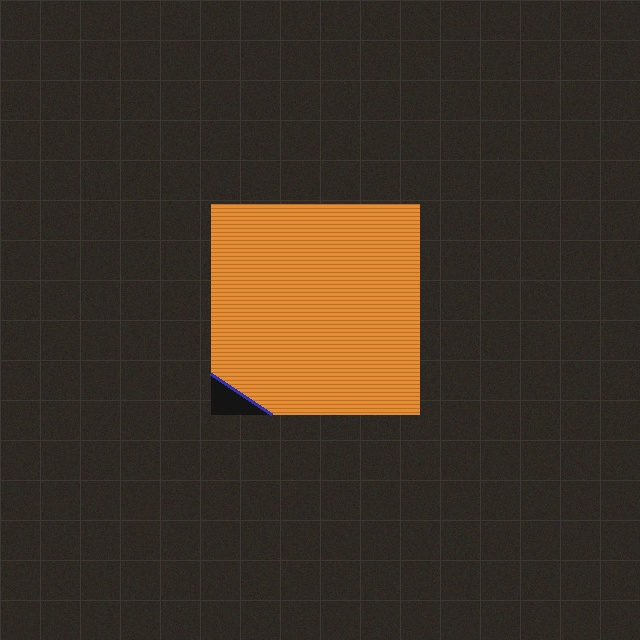warping: (201, 354, 291, 424)
